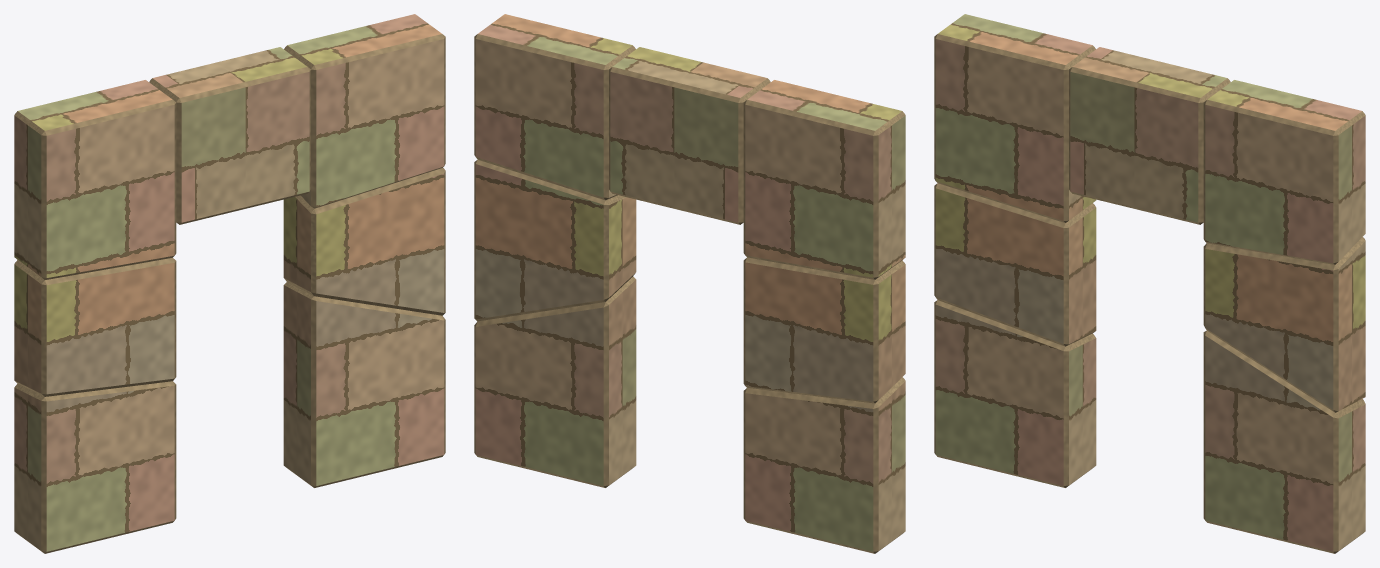
File: Kit_Stone_WallDoor_Fractured.fbx
3 views of the same model, side by side, from view 1: azimuth 30°, elevation 25°; view 2: azimuth 150°, elevation 25°; view 3: azimuth 330°, elevation 25° (orthographic).
Parts seen in each view (by area): view 1: Kit_Stone_WallDoor_frag_03, Kit_Stone_WallDoor_frag_04, Kit_Stone_WallDoor_frag_01, Kit_Stone_WallDoor_frag_06, Kit_Stone_WallDoor_frag_07, Kit_Stone_WallDoor_frag_02, Kit_Stone_WallDoor_frag_05; view 2: Kit_Stone_WallDoor_frag_03, Kit_Stone_WallDoor_frag_04, Kit_Stone_WallDoor_frag_01, Kit_Stone_WallDoor_frag_06, Kit_Stone_WallDoor_frag_07, Kit_Stone_WallDoor_frag_02, Kit_Stone_WallDoor_frag_05; view 3: Kit_Stone_WallDoor_frag_04, Kit_Stone_WallDoor_frag_06, Kit_Stone_WallDoor_frag_03, Kit_Stone_WallDoor_frag_01, Kit_Stone_WallDoor_frag_07, Kit_Stone_WallDoor_frag_05, Kit_Stone_WallDoor_frag_02.
Boxes of the visible parts, box(x1,y1,x2,y2) form: Kit_Stone_WallDoor_frag_03: box(14, 80, 176, 279); Kit_Stone_WallDoor_frag_04: box(283, 282, 445, 487); Kit_Stone_WallDoor_frag_01: box(14, 381, 176, 553); Kit_Stone_WallDoor_frag_06: box(284, 14, 445, 208); Kit_Stone_WallDoor_frag_07: box(149, 47, 310, 224); Kit_Stone_WallDoor_frag_02: box(14, 257, 176, 396); Kit_Stone_WallDoor_frag_05: box(283, 168, 445, 315); Kit_Stone_WallDoor_frag_03: box(743, 80, 905, 279); Kit_Stone_WallDoor_frag_04: box(474, 276, 636, 487); Kit_Stone_WallDoor_frag_01: box(743, 377, 905, 553); Kit_Stone_WallDoor_frag_06: box(474, 14, 635, 200); Kit_Stone_WallDoor_frag_07: box(609, 47, 770, 224); Kit_Stone_WallDoor_frag_02: box(743, 257, 905, 403); Kit_Stone_WallDoor_frag_05: box(474, 159, 636, 321); Kit_Stone_WallDoor_frag_04: box(1203, 330, 1365, 553); Kit_Stone_WallDoor_frag_06: box(1203, 80, 1365, 264); Kit_Stone_WallDoor_frag_03: box(934, 14, 1096, 222); Kit_Stone_WallDoor_frag_01: box(934, 300, 1096, 487); Kit_Stone_WallDoor_frag_07: box(1069, 47, 1230, 224); Kit_Stone_WallDoor_frag_05: box(1203, 237, 1365, 412); Kit_Stone_WallDoor_frag_02: box(934, 183, 1096, 346).
Size of what is drawn, in the model's own units: 3 by 3 by 0.4.
2 materials, 2 textured.
